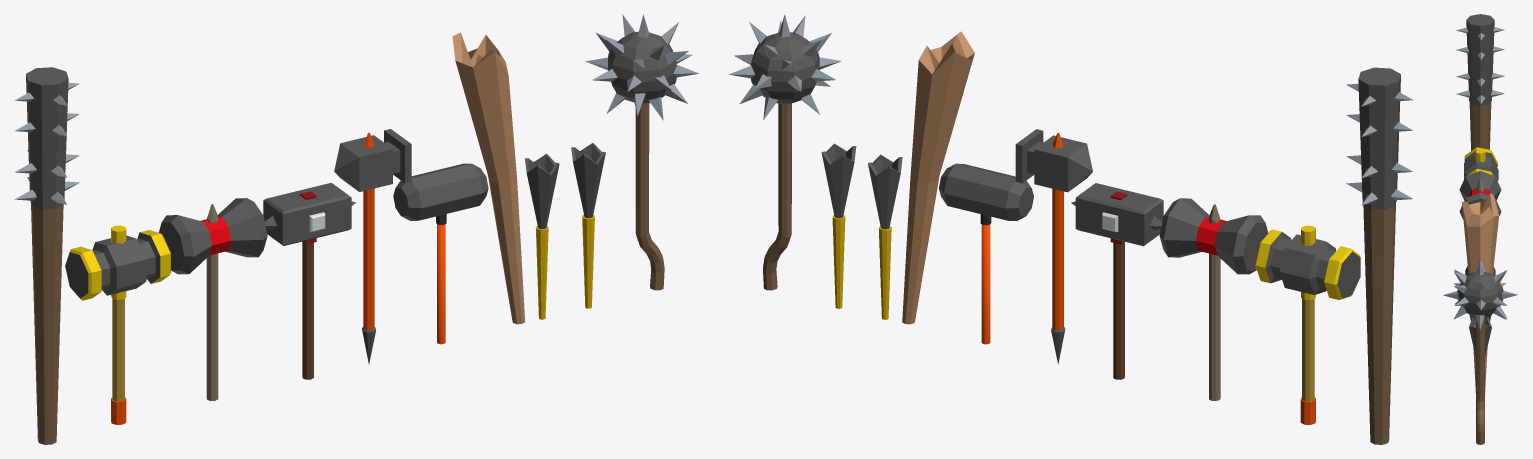
3 views of the same model, side by side, from view 1: azimuth 30°, elevation 25°; view 2: azimuth 150°, elevation 25°; view 3: azimuth 270°, elevation 25° (orthographic). The views are drawn at different scales.
Parts seen in each view (by area): view 1: Cylinder.011, Cylinder.009, Cylinder, Cylinder.012, Cylinder.010, Cylinder.004, Cube, Cube.002, Sphere, Cone.036, Cylinder.015, Cylinder.014 (+9 smaller); view 2: Cylinder.011, Cylinder.009, Cylinder, Cylinder.012, Cylinder.010, Cylinder.004, Cube, Cube.002, Sphere, Cylinder.015, Cone.036, Cylinder.014 (+9 smaller); view 3: Cylinder.011, Cylinder.010, Sphere, Cone.036, Cylinder.015, Cylinder.012, Cylinder.009, Cylinder, Cone.002, Cylinder.018, Cylinder.001.
Part boxes in pixels (x1,y1,x2,y2): Cylinder.011: (452,32,525,324); Cylinder.009: (31,204,63,444); Cylinder: (65,230,170,300); Cylinder.012: (158,198,267,274); Cylinder.010: (26,67,68,209); Cylinder.004: (393,163,488,220); Cube: (263,182,351,245); Cube.002: (334,129,411,191); Sphere: (608,31,676,103); Cone.036: (585,14,698,120); Cylinder.015: (635,103,664,290); Cylinder.014: (362,132,376,364); Cylinder.011: (902,31,974,324); Cylinder.009: (1363,204,1395,444); Cylinder: (1255,229,1360,299); Cylinder.012: (1159,198,1268,274); Cylinder.010: (1358,67,1400,209); Cylinder.004: (939,163,1033,220); Cube: (1075,183,1163,246); Cube.002: (1015,129,1092,192); Sphere: (751,32,819,104); Cylinder.015: (763,103,791,290); Cone.036: (729,14,841,119); Cylinder.014: (1051,133,1065,364); Cylinder.011: (1462,193,1499,392); Cylinder.010: (1466,14,1494,105); Sphere: (1457,271,1503,317); Cone.036: (1443,260,1517,329); Cylinder.015: (1476,317,1484,444); Cylinder.012: (1459,171,1501,219); Cylinder.009: (1469,102,1491,150); Cylinder: (1464,147,1498,180); Cone.002: (1456,27,1504,103); Cylinder.018: (1469,317,1491,356); Cylinder.001: (1475,149,1485,161).
Size of the model in its own units: 2137 by 1104 by 322.
